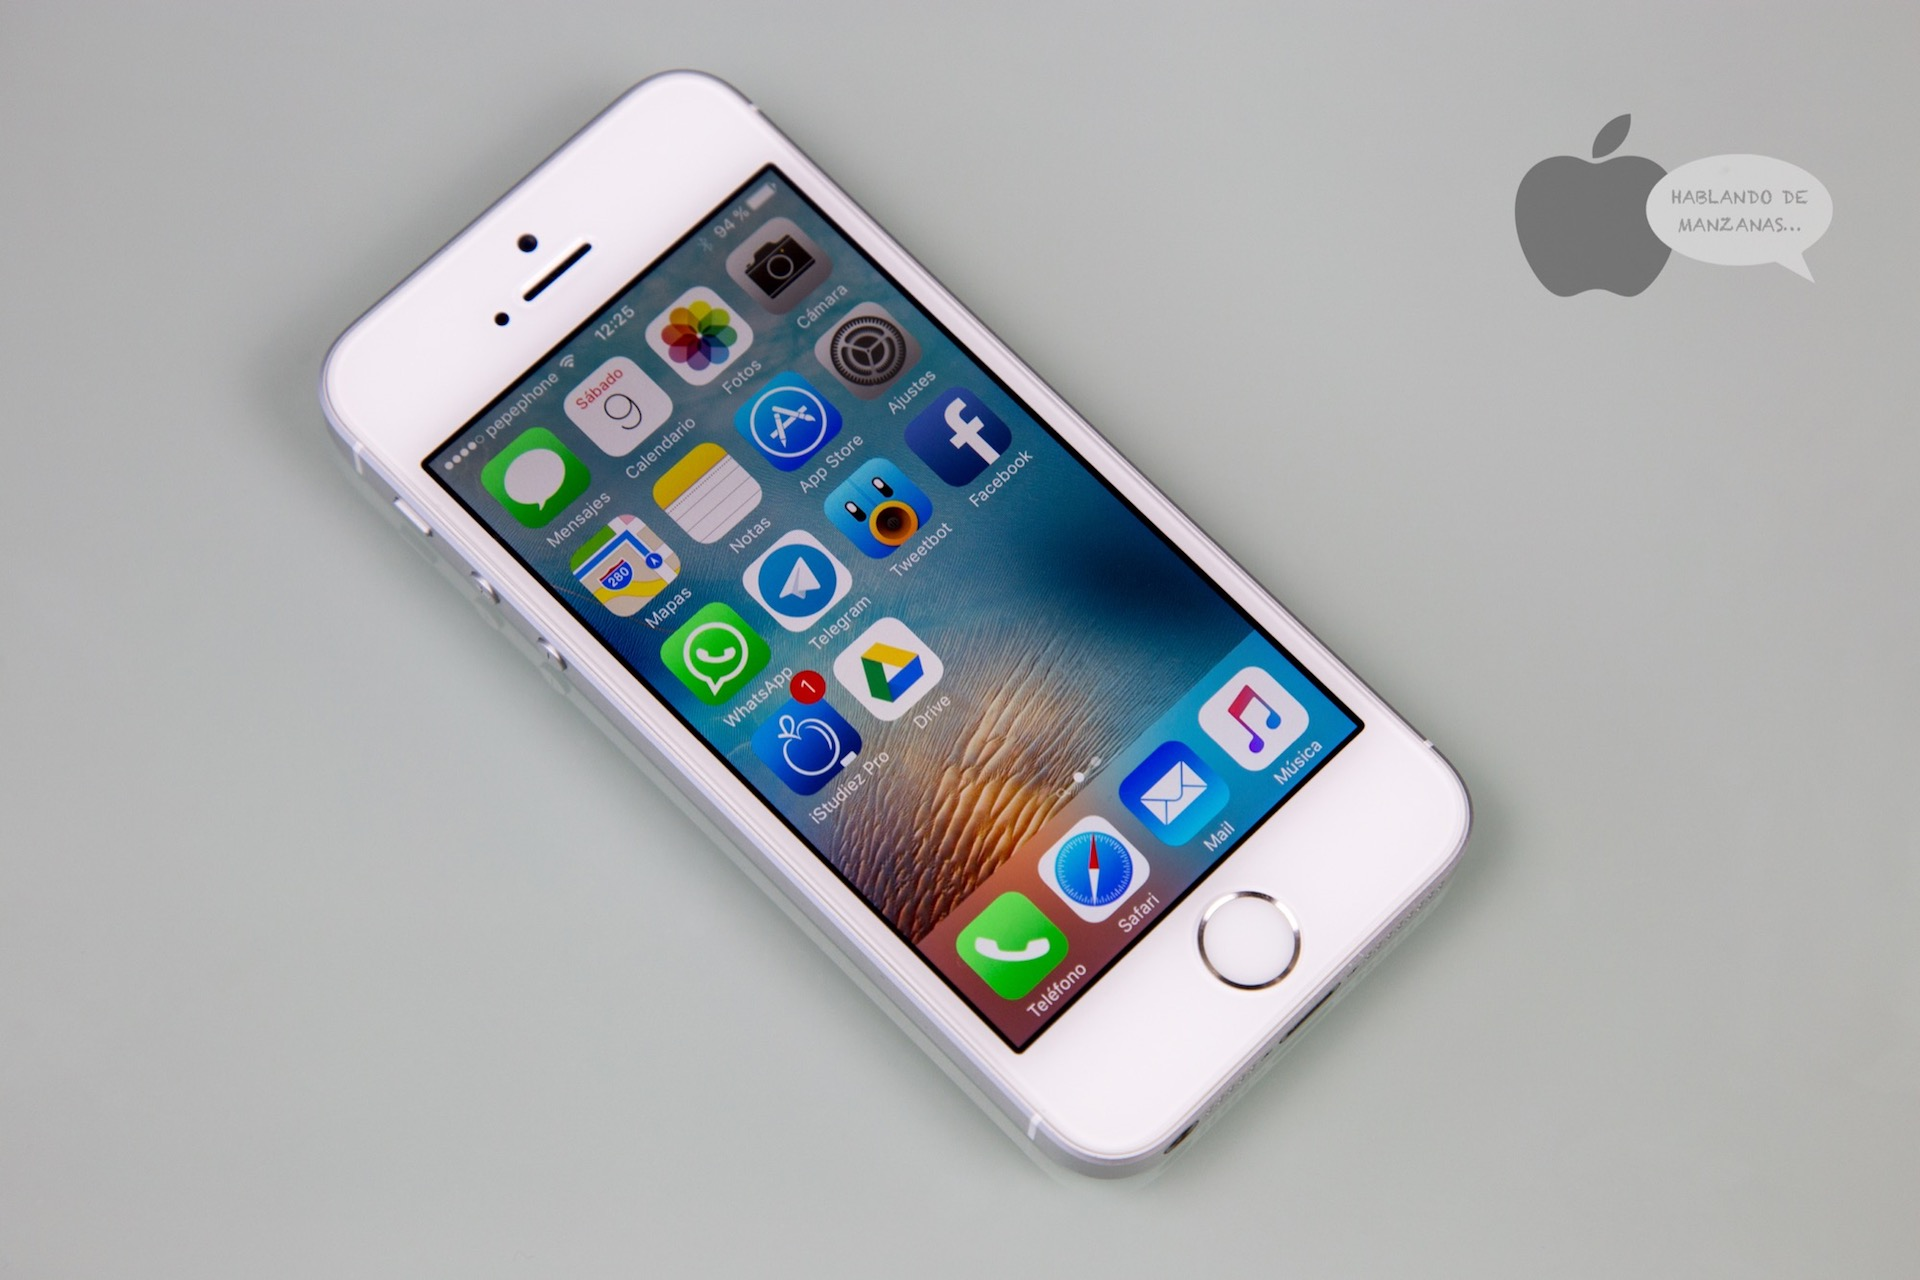smartphone: (313, 69, 1476, 1187)
